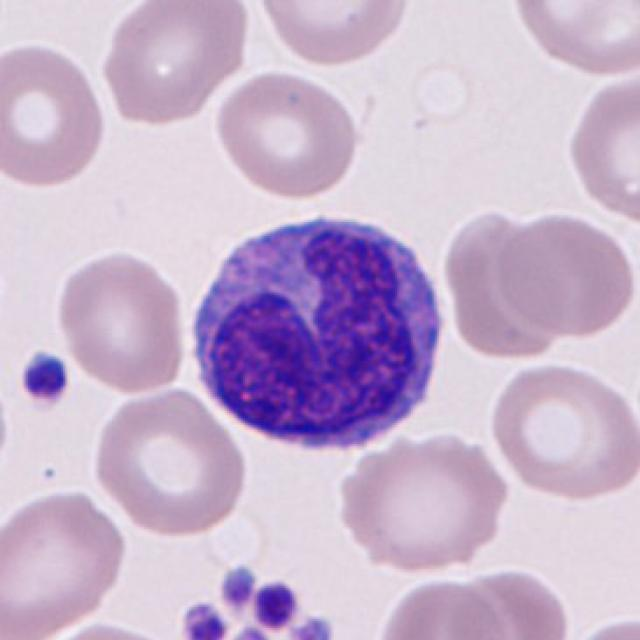Monocyte: (180, 203, 457, 465)
Platelets: (15, 347, 72, 409), (250, 576, 304, 633), (177, 598, 229, 640), (217, 562, 259, 610), (288, 614, 336, 640)
RBC: (332, 426, 514, 576), (87, 382, 252, 541), (484, 357, 638, 505), (51, 247, 190, 396), (212, 66, 364, 201), (0, 484, 133, 638), (96, 0, 253, 128), (439, 206, 566, 364), (495, 210, 638, 340), (0, 36, 112, 192), (563, 71, 640, 226), (251, 0, 414, 69), (506, 0, 638, 80), (440, 563, 575, 640), (371, 574, 509, 640), (437, 591, 518, 640), (19, 617, 189, 640), (559, 610, 640, 640), (0, 366, 14, 487)
